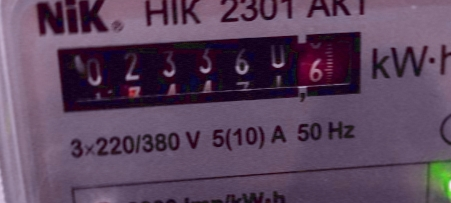0: (81, 55, 103, 89), (264, 41, 286, 72)
2: (120, 50, 140, 83)
3: (194, 43, 213, 76), (156, 49, 175, 80)
6: (229, 45, 250, 78), (304, 54, 325, 87)
screen: (39, 24, 378, 119)
